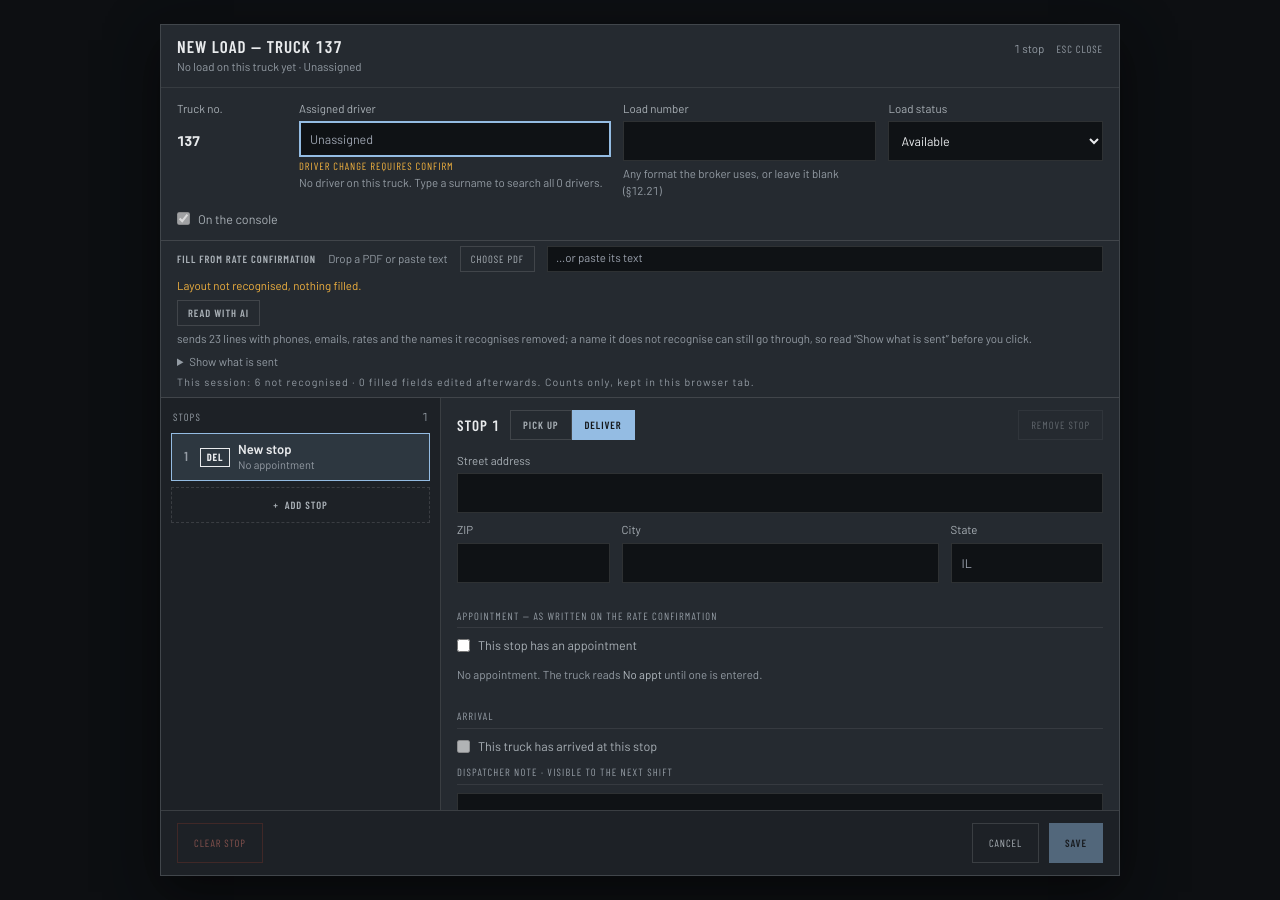
Scenario: a read › sends the lines as n and text, fills the load, and marks every filled field as read by AI
The image size is (1280, 900).
Click the button "Read with AI".
click(219, 313)  # box [177,300,260,326]
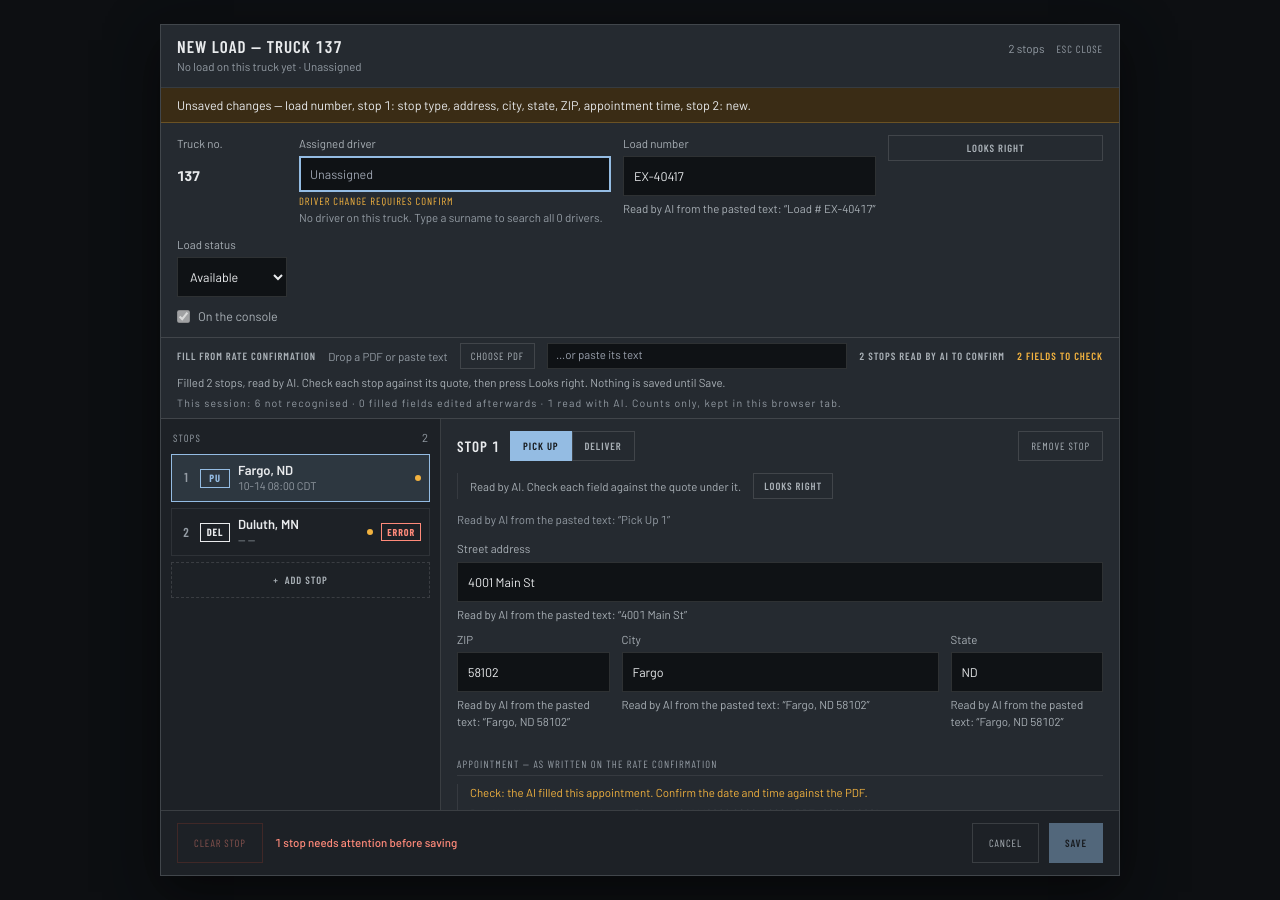
Expected: the text "Filled 2 stops, read by AI. Check each stop against its quote, then press Looks right. Nothing is saved until Save." is shown, [177,375,726,389]
Expected: the 1st field holds "EX-40417", [623,156,876,196]
Expected: the 2nd field holds "4001 Main St", [457,562,1103,602]
